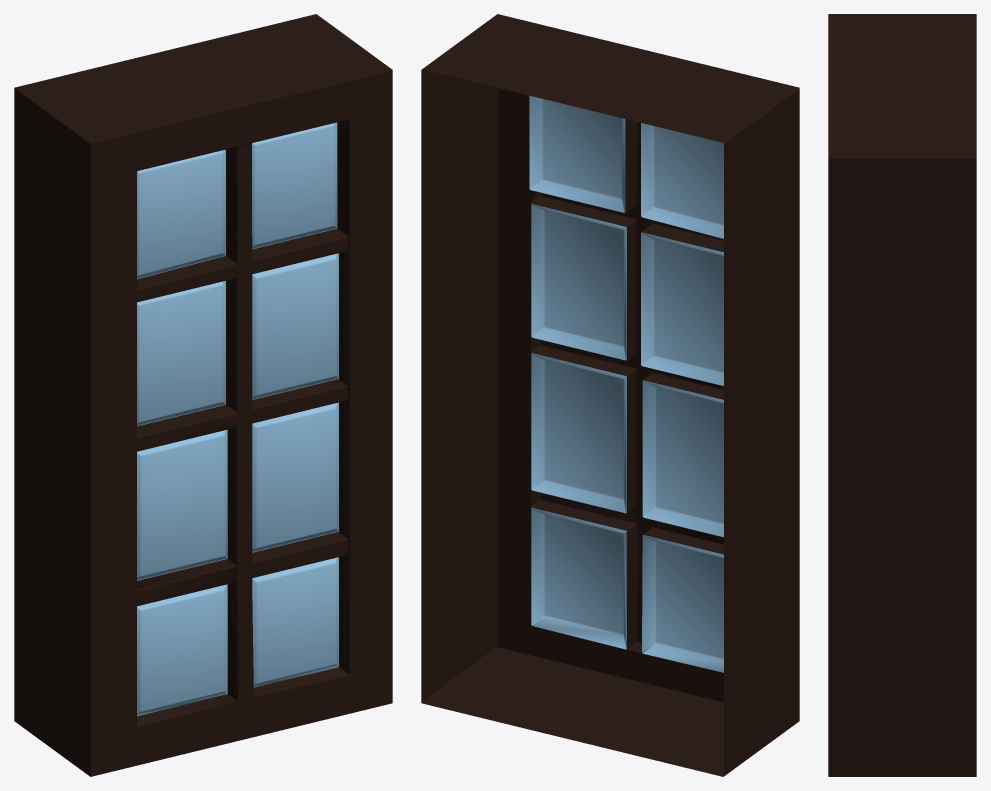
File: okno.fbx
3 views of the same model, side by side, from view 1: azimuth 30°, elevation 25°; view 2: azimuth 150°, elevation 25°; view 3: azimuth 270°, elevation 25° (orthographic). The views are drawn at different scales.
Visible parts, largest first — view 1: Box001; view 2: Box001; view 3: Box001.
Part boxes in pixels (bbox=[...]): Box001: bbox=[14, 14, 392, 776]; Box001: bbox=[421, 14, 799, 776]; Box001: bbox=[828, 14, 976, 776].
Bounding box in the file's own units: 40 × 80 × 17.4.
